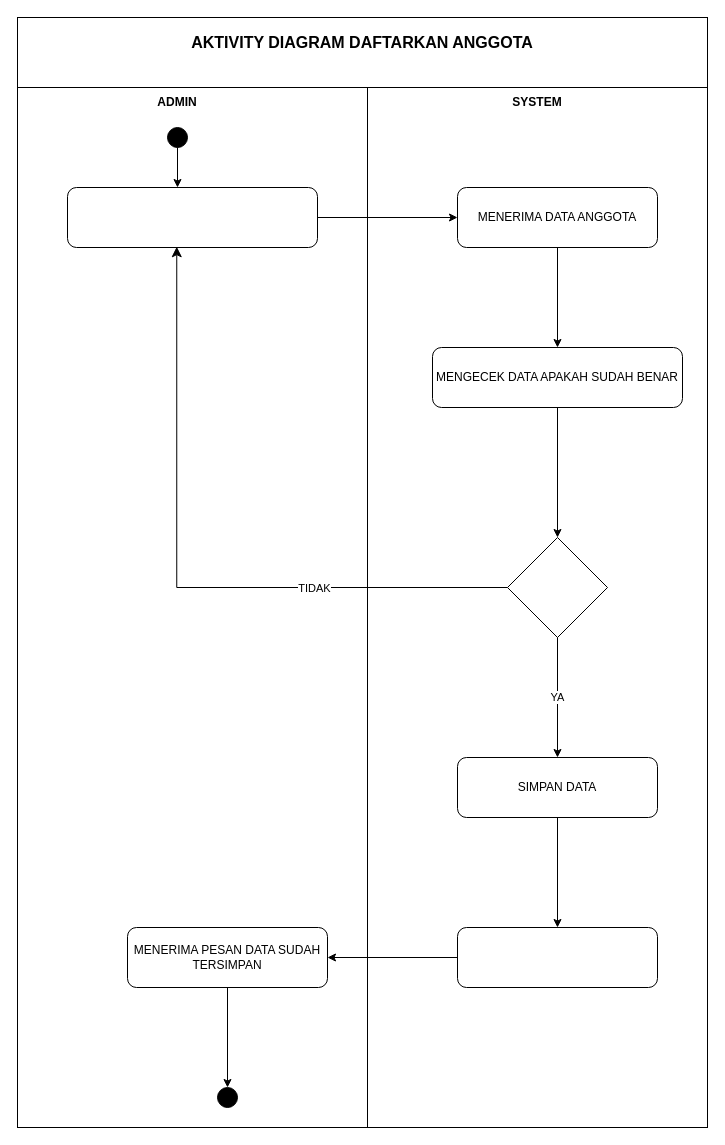
Some shapes in this 725 by 1145 pixel diagram are drawn without their labels. Each missing label, with the centre of its shape:
KIRIM PESAN DATA SUDAH TERIMPAN: the point at 557,957
MENGISI DATA ANGGOTA: the point at 192,217
